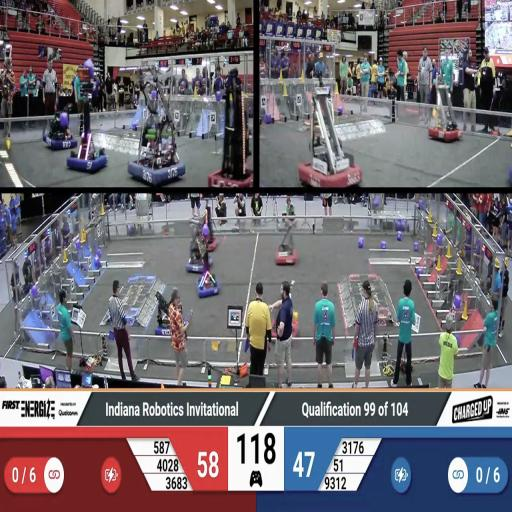robot: (124, 70, 188, 186), (298, 86, 364, 186), (209, 68, 253, 188), (66, 58, 110, 176), (42, 81, 78, 153), (427, 74, 464, 142), (195, 220, 221, 300), (153, 288, 191, 336), (187, 212, 212, 272), (268, 299, 300, 337), (274, 222, 300, 266), (200, 204, 220, 249)
